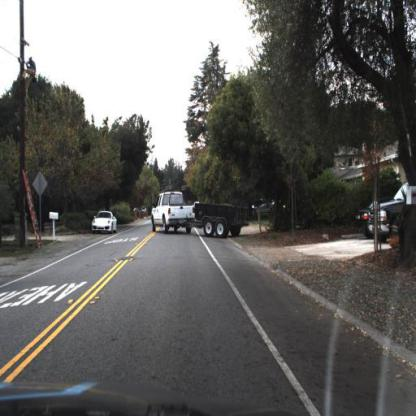car: (368, 180, 416, 255), (255, 197, 282, 222), (94, 212, 119, 236)
pedestrian: (23, 55, 37, 91)
truck: (150, 184, 253, 239)
